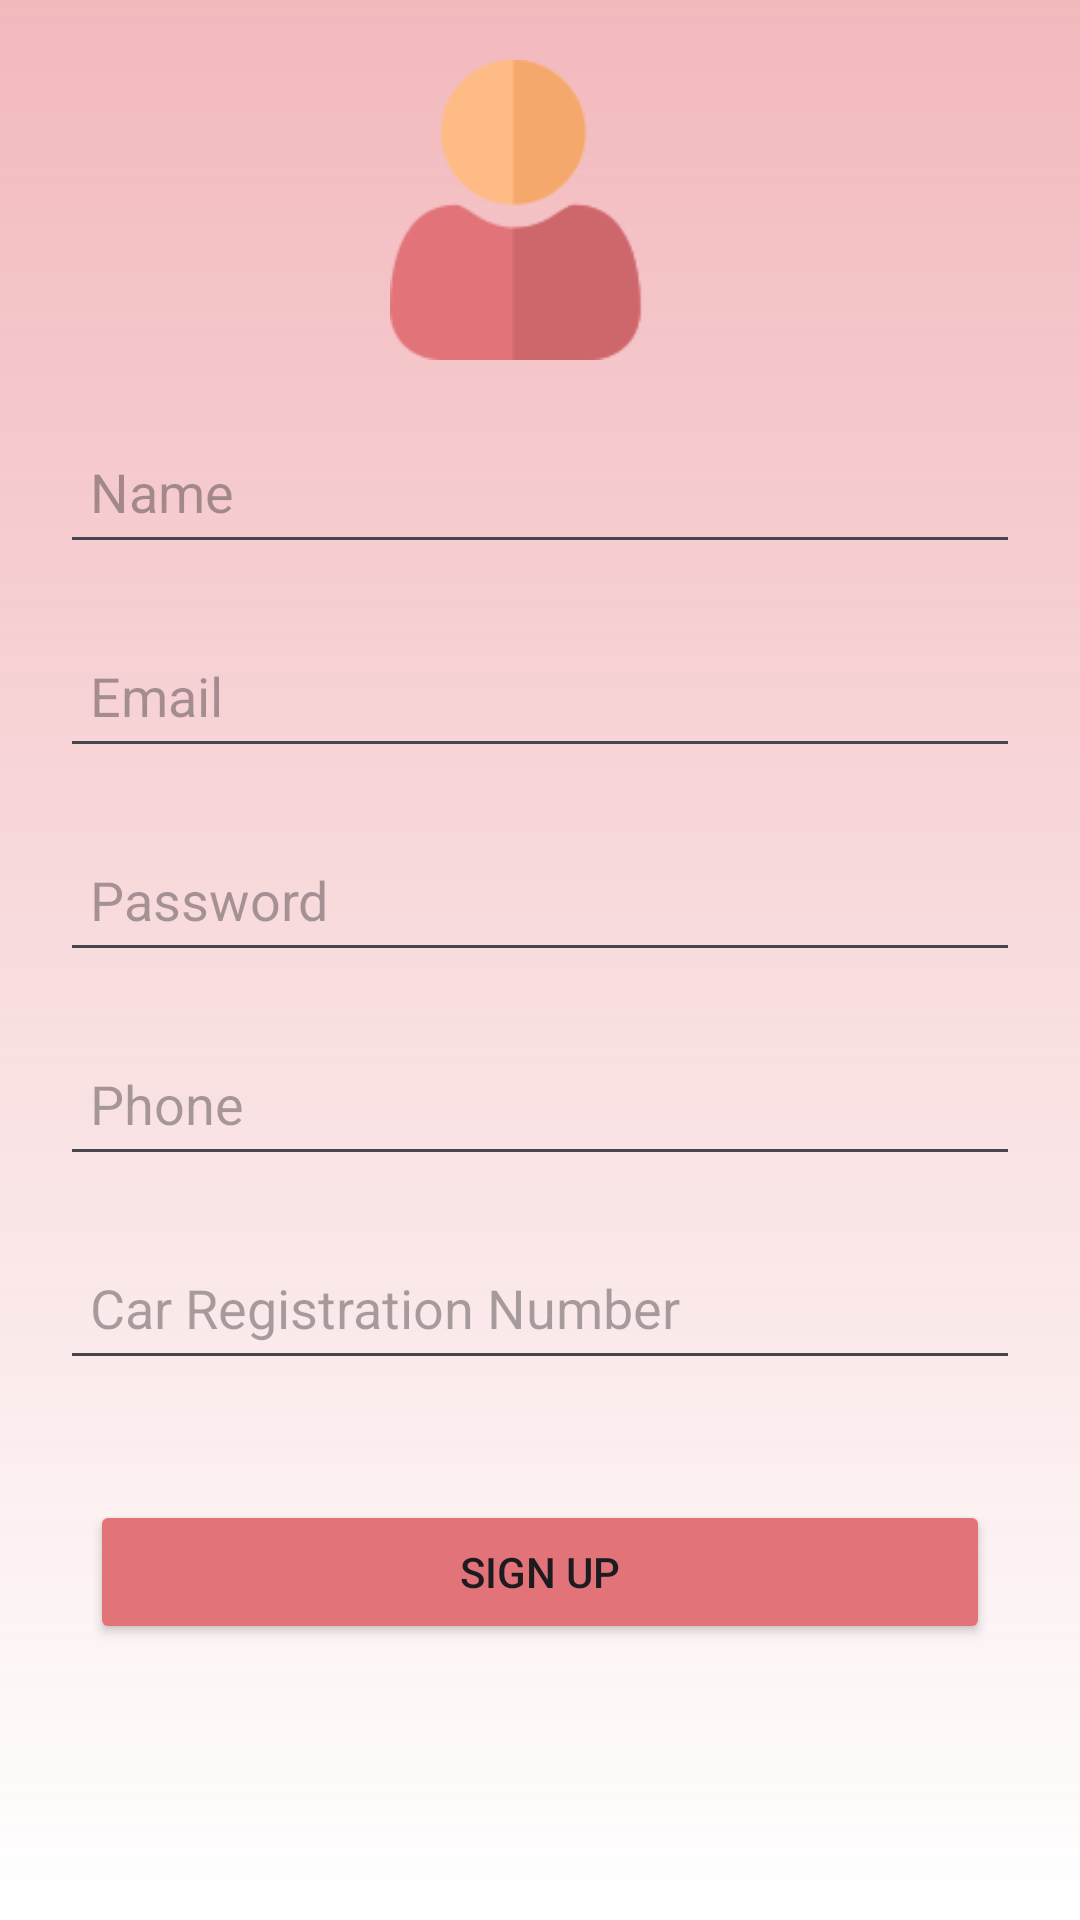

Icon click points for this 1080w x 1920h phone screenshot, format point (x, y):
User Profile: point (515, 210)
